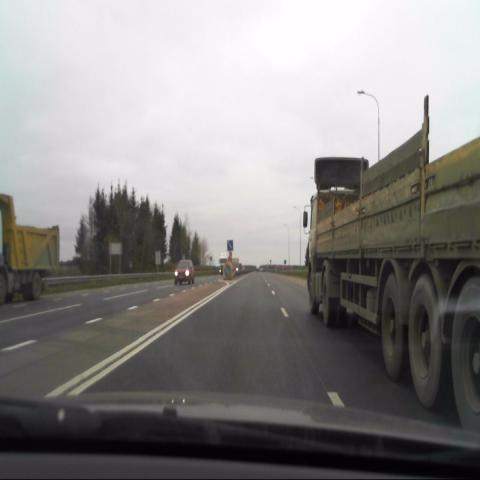4_2_1: (222, 262, 232, 277), (226, 237, 234, 252)
